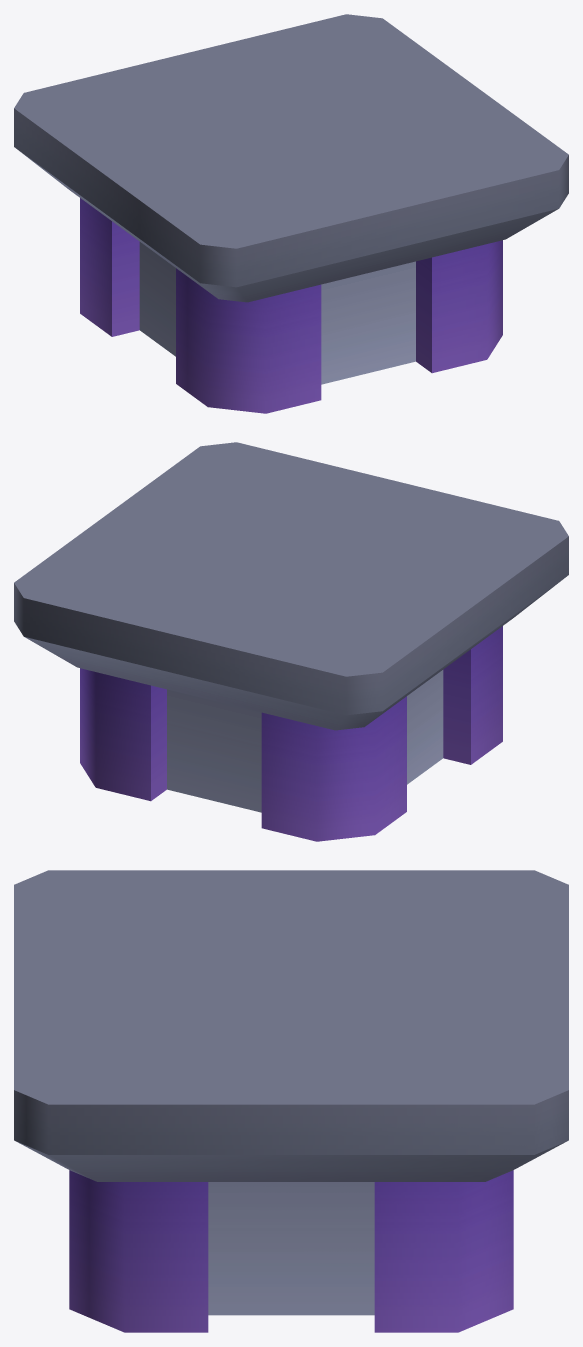
The model's file is tower-square-middle-b.glb.
3 views of the same model, one above another, from view 1: azimuth 30°, elevation 25°; view 2: azimuth 150°, elevation 25°; view 3: azimuth 270°, elevation 25° (orthographic). The views are drawn at different scales.
Visible parts, largest first — view 1: tower-square-middle-b; view 2: tower-square-middle-b; view 3: tower-square-middle-b.
Boxes of the visible parts, left/top/right/bottom form: tower-square-middle-b: left=14, top=14, right=568, bottom=413; tower-square-middle-b: left=14, top=442, right=568, bottom=841; tower-square-middle-b: left=14, top=870, right=568, bottom=1332.
Bounding box in the file's own units: 1 × 0.5001 × 1.
1 material, 1 textured.
